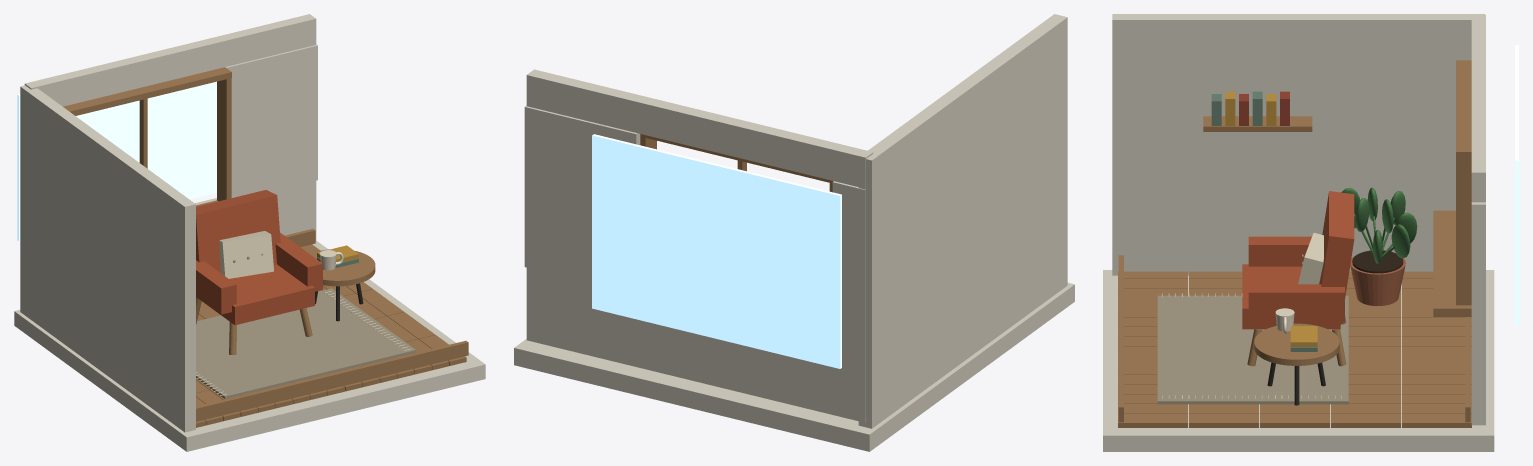
Rendered from result.glb.
3 renders of one model, left to right at view 1: azimuth 30°, elevation 25°; view 2: azimuth 150°, elevation 25°; view 3: azimuth 270°, elevation 25°, orthographic. The views are drawn at different scales.
Visible parts, largest first — view 1: Side wall.001, Woven rug.001, Back right pier.001, Room foundation.001, Distant sky.001, Back wall lintel.001, Oak skirting.002, Chair back.001, Chair seat.001, Linen cushion.001, Window frame.003, Back wall below window.001 (+7 smaller); view 2: Side wall.001, Distant sky.001, Back wall below window.001, Room foundation.001, Back wall lintel.001, Back right pier.001, Back left pier.001, Window frame.003; view 3: Side wall.001, Woven rug.001, Room foundation.001, Chair upholstered arm.003, Chair back.001, Back wall lintel.001, Window sill.001, Window jamb.003, Back right pier.001, Round side table.001, Chair seat.001, Chair upholstered arm.002 (+46 smaller).
Part boxes in pixels (x1,y1,x2,y2): Side wall.001: (20,85,195,432); Woven rug.001: (196,288,416,398); Back right pier.001: (225,44,317,197); Room foundation.001: (14,240,485,451); Distant sky.001: (17,81,216,240); Back wall lintel.001: (24,14,316,106); Oak skirting.002: (196,340,468,421); Chair back.001: (196,190,280,272); Chair seat.001: (196,264,314,325); Linen cushion.001: (219,231,273,278); Window frame.003: (63,67,231,115); Back wall below window.001: (195,180,316,241); Side wall.001: (858,14,1067,428); Distant sky.001: (592,134,841,368); Back wall below window.001: (526,267,865,422); Room foundation.001: (514,282,1074,451); Back wall lintel.001: (526,69,873,188); Back right pier.001: (524,105,640,283); Back left pier.001: (832,181,865,350); Window frame.003: (640,134,833,183); Side wall.001: (1112,14,1485,275); Woven rug.001: (1157,295,1348,404); Room foundation.001: (1103,270,1494,451); Chair upholstered arm.003: (1248,284,1344,322); Chair back.001: (1319,191,1354,324); Back wall lintel.001: (1471,15,1485,202); Window sill.001: (1433,210,1471,316); Window jamb.003: (1456,158,1471,303); Back right pier.001: (1471,202,1485,356); Round side table.001: (1254,323,1339,365); Chair seat.001: (1242,264,1340,329); Chair upholstered arm.002: (1248,236,1311,266).
Size of what is drawn, in the model's own units: 4.3 by 3.34 by 4.57.
